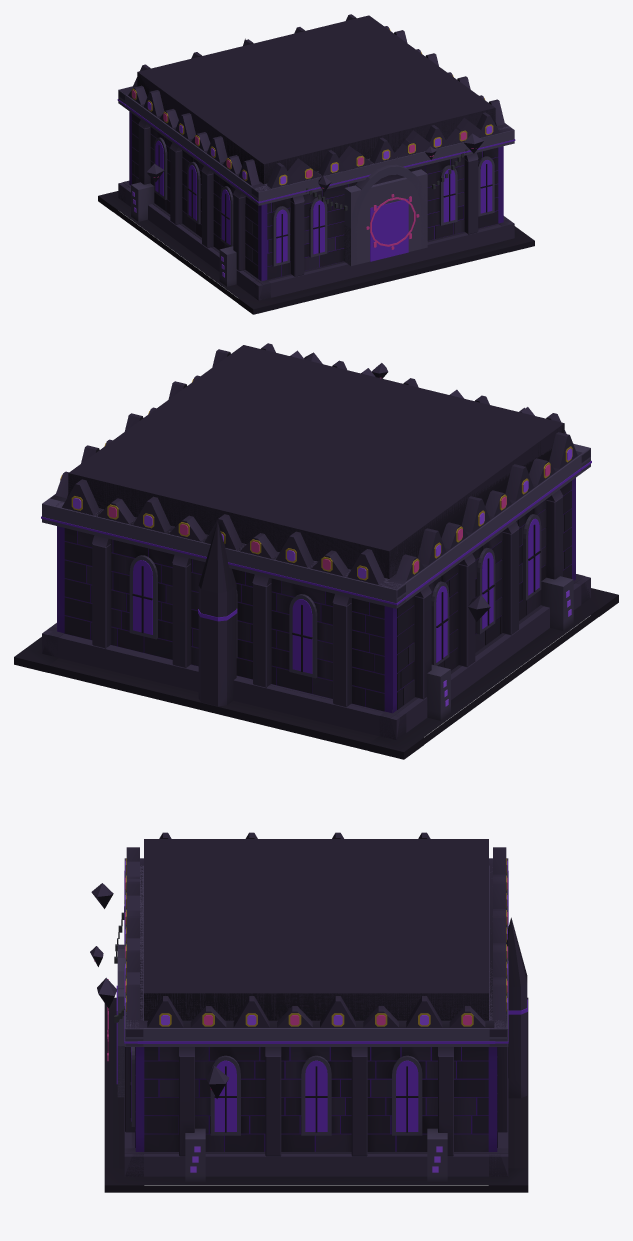
File: ChaosCrownFloor.fbx
The picture shows the model from 3 angles, top to bottom: view 1: azimuth 30°, elevation 25°; view 2: azimuth 150°, elevation 25°; view 3: azimuth 270°, elevation 25°; orthographic projection. The views are drawn at different scales.
Parts seen in each view (by area): view 1: CC_S_All, CC_F_Rings, CC_F_Smooth, CC_F_Props, CC_F_Quiet, CC_F_Glass; view 2: CC_S_All, CC_F_Rings, CC_F_Props, CC_F_Smooth, CC_F_Glass, CC_F_Quiet; view 3: CC_S_All, CC_F_Rings, CC_F_Props, CC_F_Smooth, CC_F_Quiet, CC_F_Glass.
Part boxes in pixels (bbox=[...]): CC_S_All: bbox=[118, 15, 514, 300]; CC_F_Rings: bbox=[118, 72, 512, 300]; CC_F_Smooth: bbox=[98, 28, 534, 314]; CC_F_Props: bbox=[128, 14, 504, 286]; CC_F_Quiet: bbox=[99, 164, 534, 309]; CC_F_Glass: bbox=[117, 90, 515, 277]; CC_S_All: bbox=[42, 345, 590, 739]; CC_F_Rings: bbox=[42, 423, 590, 739]; CC_F_Props: bbox=[55, 343, 577, 720]; CC_F_Smooth: bbox=[14, 379, 618, 759]; CC_F_Glass: bbox=[41, 377, 591, 706]; CC_F_Quiet: bbox=[14, 588, 618, 751]; CC_S_All: bbox=[116, 839, 508, 1176]; CC_F_Rings: bbox=[124, 858, 527, 1176]; CC_F_Props: bbox=[90, 832, 527, 1182]; CC_F_Smooth: bbox=[104, 858, 528, 1192]; CC_F_Quiet: bbox=[104, 944, 528, 1185]; CC_F_Glass: bbox=[94, 860, 527, 1172].
Bounding box in the file's own units: 60 × 20 × 60.
